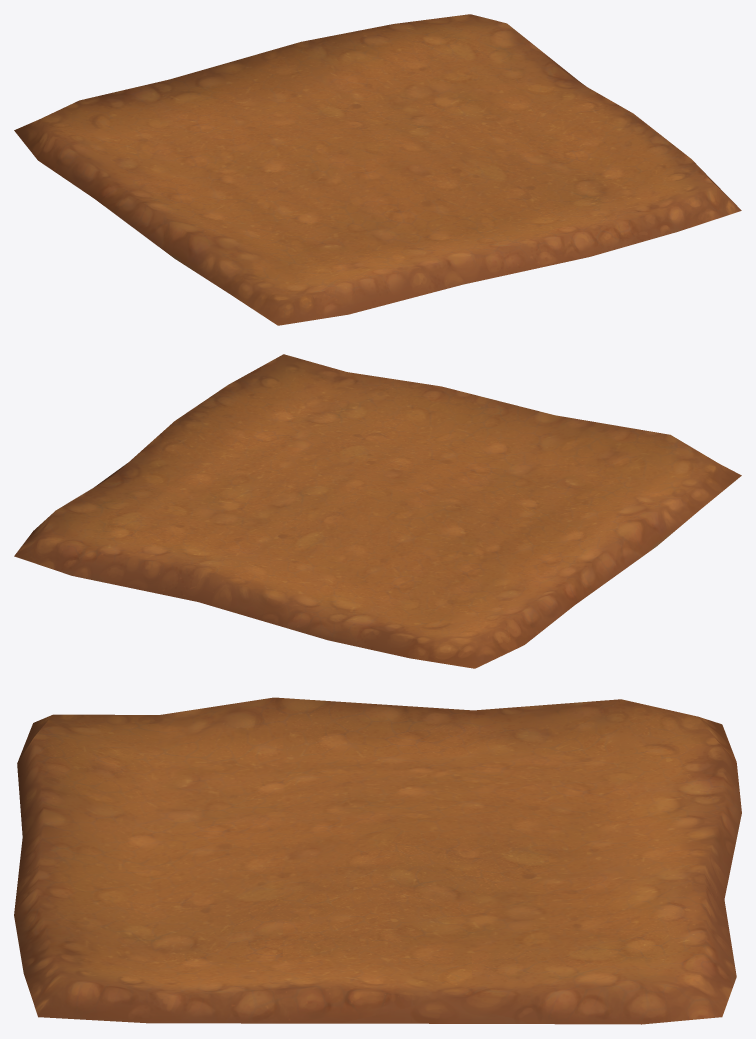
Rendered from gardenbed_big.FBX.
The picture shows the model from 3 angles, top to bottom: view 1: azimuth 30°, elevation 25°; view 2: azimuth 150°, elevation 25°; view 3: azimuth 270°, elevation 25°; orthographic projection. The views are drawn at different scales.
Visible parts, largest first — view 1: gardenbed_big; view 2: gardenbed_big; view 3: gardenbed_big.
Part boxes in pixels (x1,y1,x2,y2): gardenbed_big: (14,14,741,325); gardenbed_big: (14,354,741,668); gardenbed_big: (14,697,741,1024).
Size of the model in its own units: 98.74 by 4.87 by 98.54.
1 material, 1 textured.
